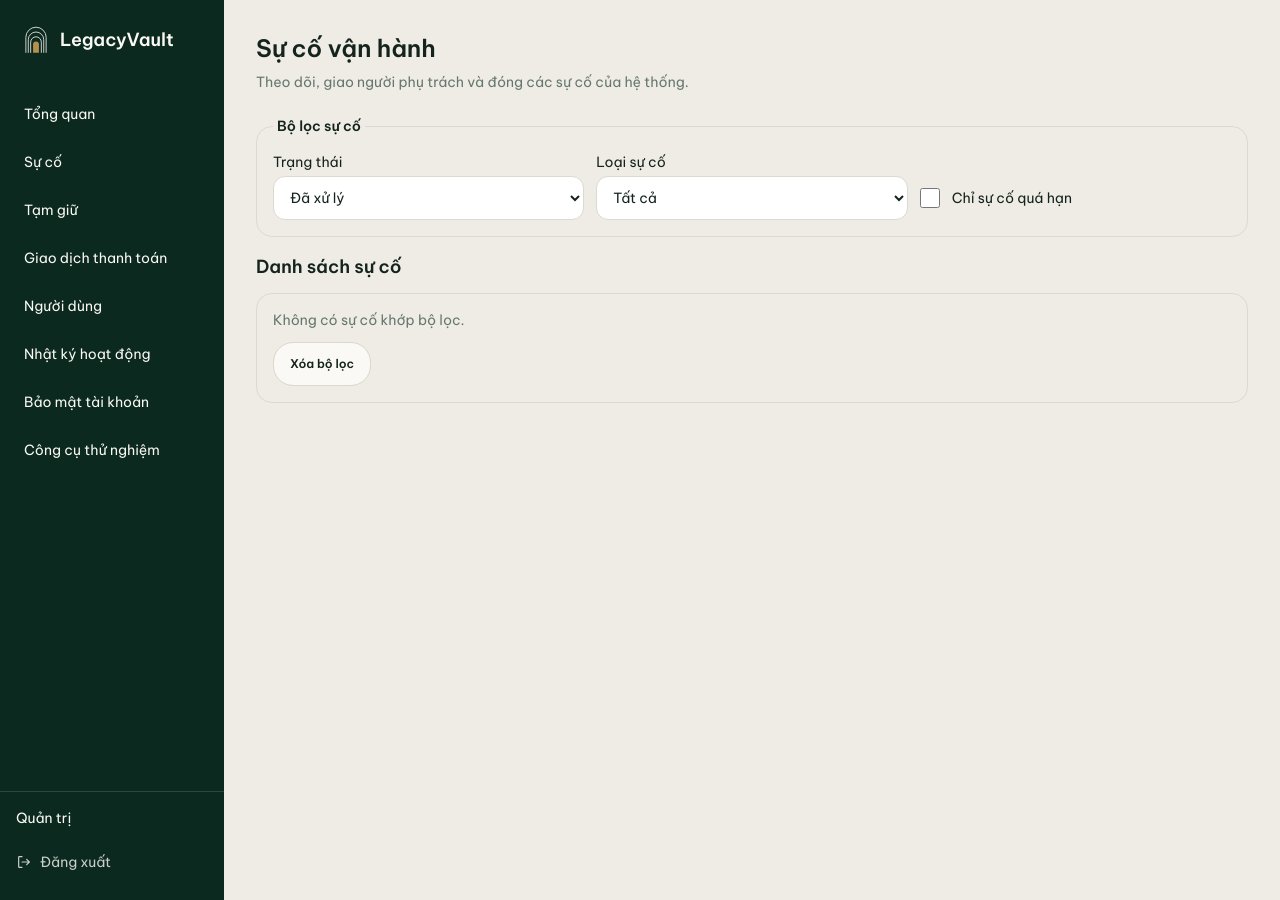
Sự cố › phân biệt danh sách rỗng khi không và có bộ lọc, và cho xóa bộ lọc
The image size is (1280, 900).
Check: the text "Không có sự cố khớp bộ lọc." is shown, box [273,311,464,329]
Click the button "Xóa bộ lọc".
click(322, 364)  # box [273,342,371,386]
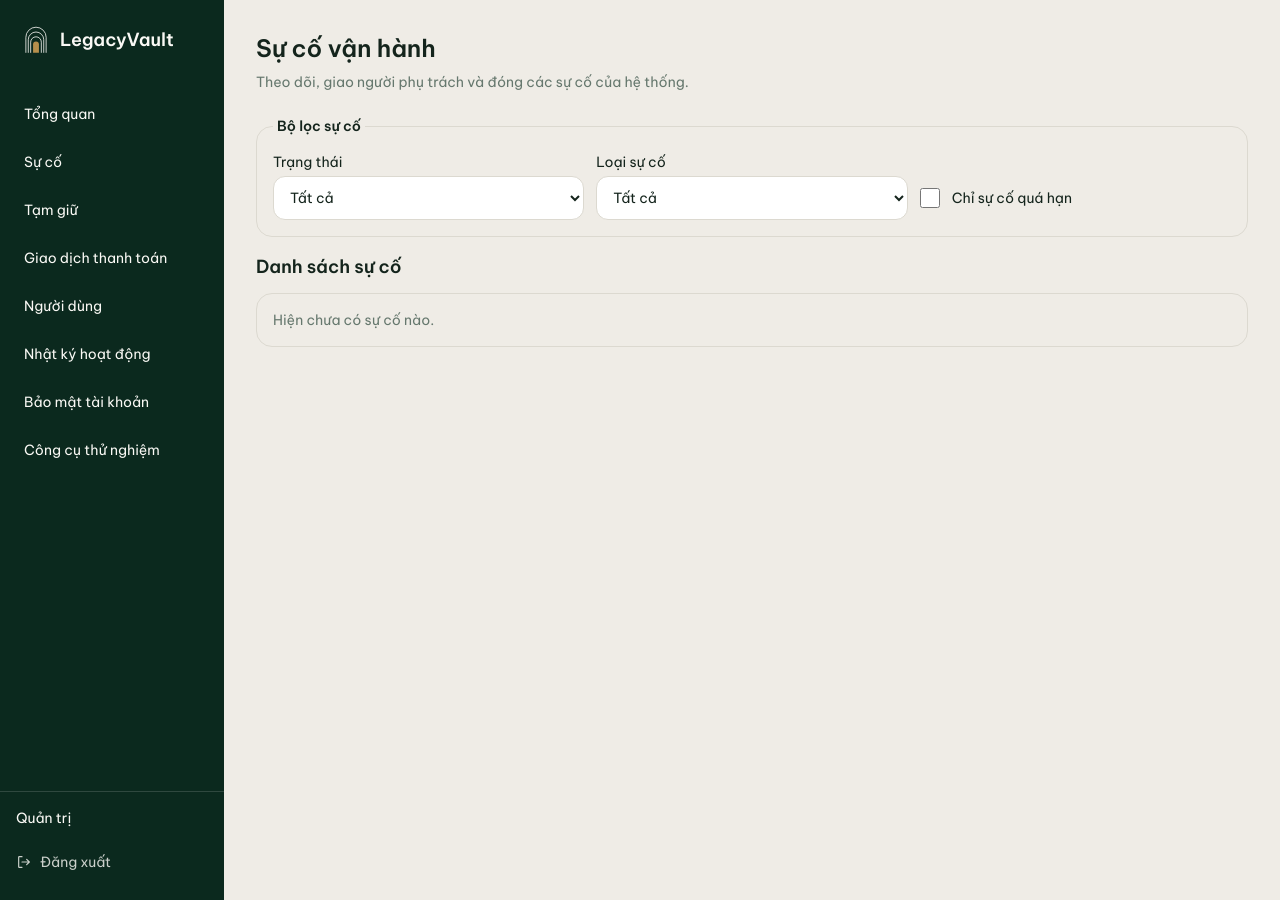
Check: the text "Hiện chưa có sự cố nào." is shown, box [273,311,434,329]
